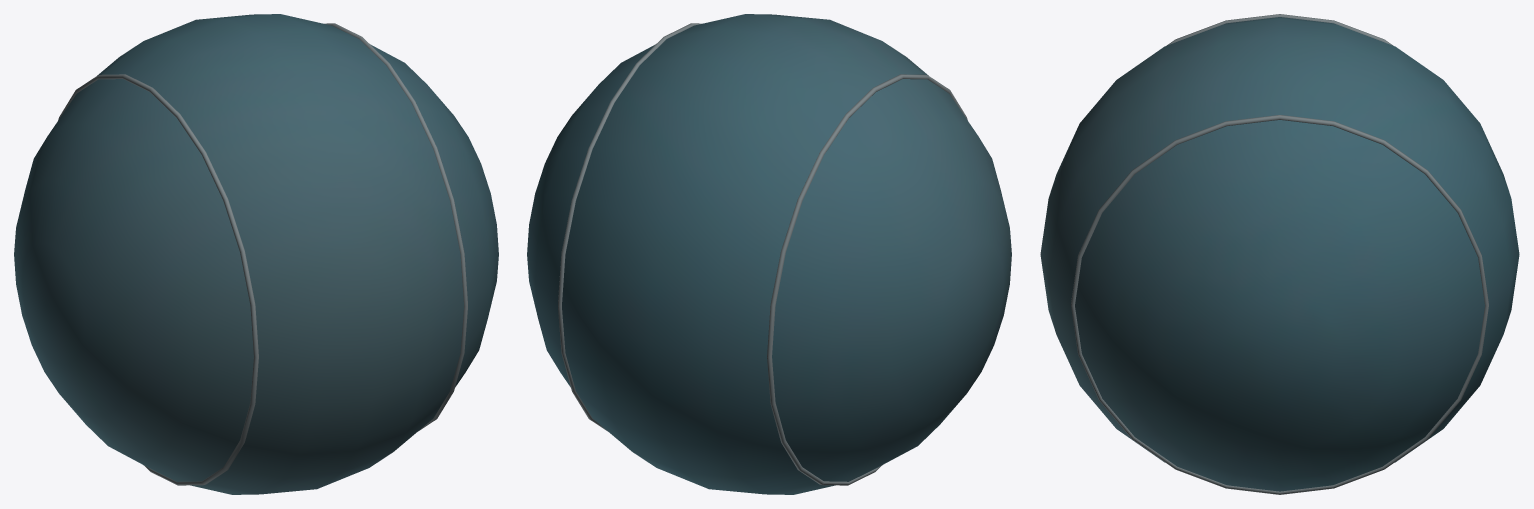
File: Sphere_Vehicle_Dome.fbx
3 views of the same model, side by side, from view 1: azimuth 30°, elevation 25°; view 2: azimuth 150°, elevation 25°; view 3: azimuth 270°, elevation 25° (orthographic).
Visible parts, largest first — view 1: Sphere_Vehicle_Dome; view 2: Sphere_Vehicle_Dome; view 3: Sphere_Vehicle_Dome.
Part boxes in pixels (x1,y1,x2,y2): Sphere_Vehicle_Dome: [14, 14, 498, 494]; Sphere_Vehicle_Dome: [527, 14, 1011, 494]; Sphere_Vehicle_Dome: [1040, 14, 1519, 494].
Size of the model in its own units: 250 by 250 by 250.
